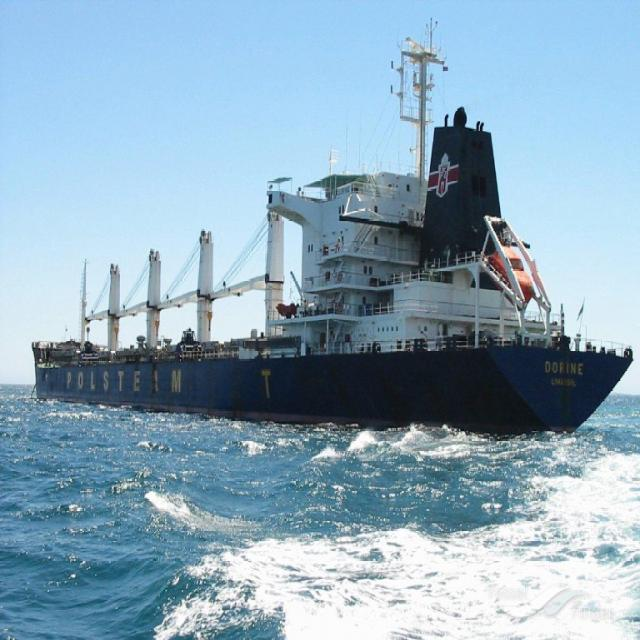Bulk Carrier: (30, 136, 625, 432)
